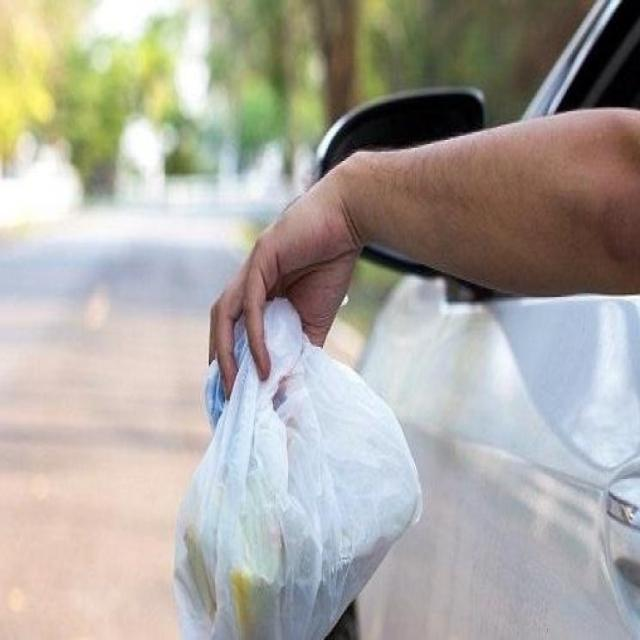sampah-detection: (170, 289, 425, 640)
